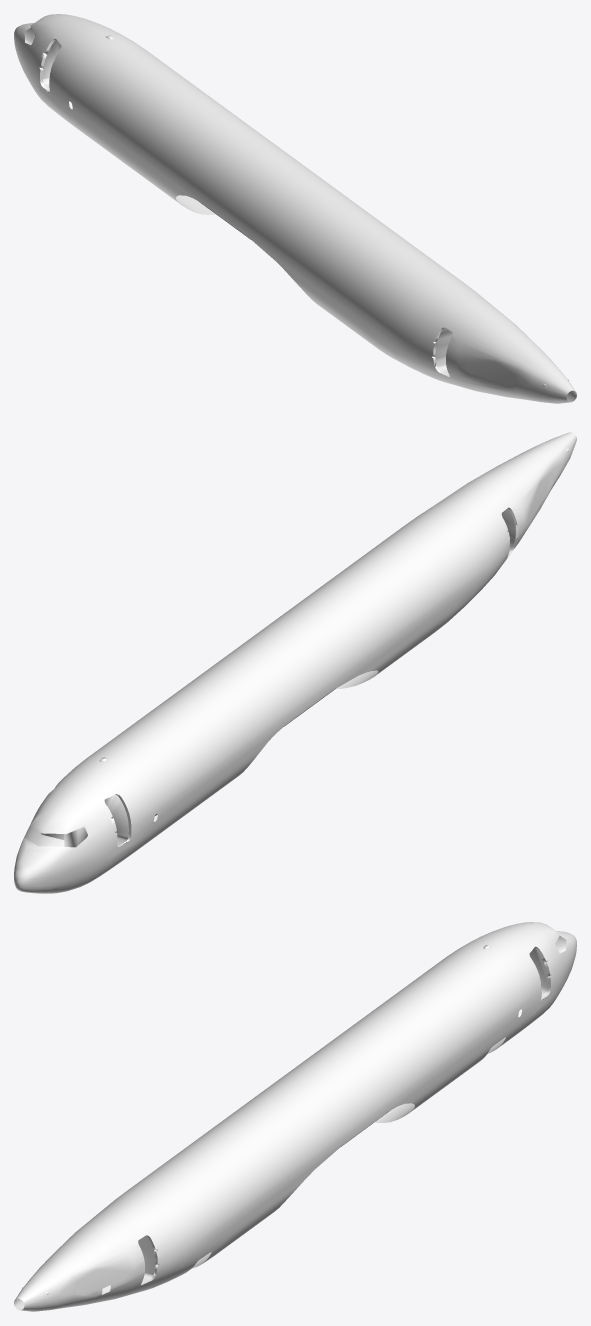
The picture shows the model from 3 angles, top to bottom: view 1: azimuth 30°, elevation 25°; view 2: azimuth 150°, elevation 25°; view 3: azimuth 330°, elevation 25°; orthographic projection.
Visible parts, largest first — view 1: static-material-0, static-material-1; view 2: static-material-0, static-material-1; view 3: static-material-0, static-material-1.
Boxes of the visible parts, bbox=[...] form: static-material-0: bbox=[14, 14, 576, 403]; static-material-1: bbox=[39, 38, 452, 377]; static-material-0: bbox=[14, 432, 576, 893]; static-material-1: bbox=[41, 507, 517, 847]; static-material-0: bbox=[14, 922, 576, 1311]; static-material-1: bbox=[138, 946, 551, 1285].
Size of the model in its own units: 3.75 by 4.03 by 41.7.
14 materials, 13 textured.
